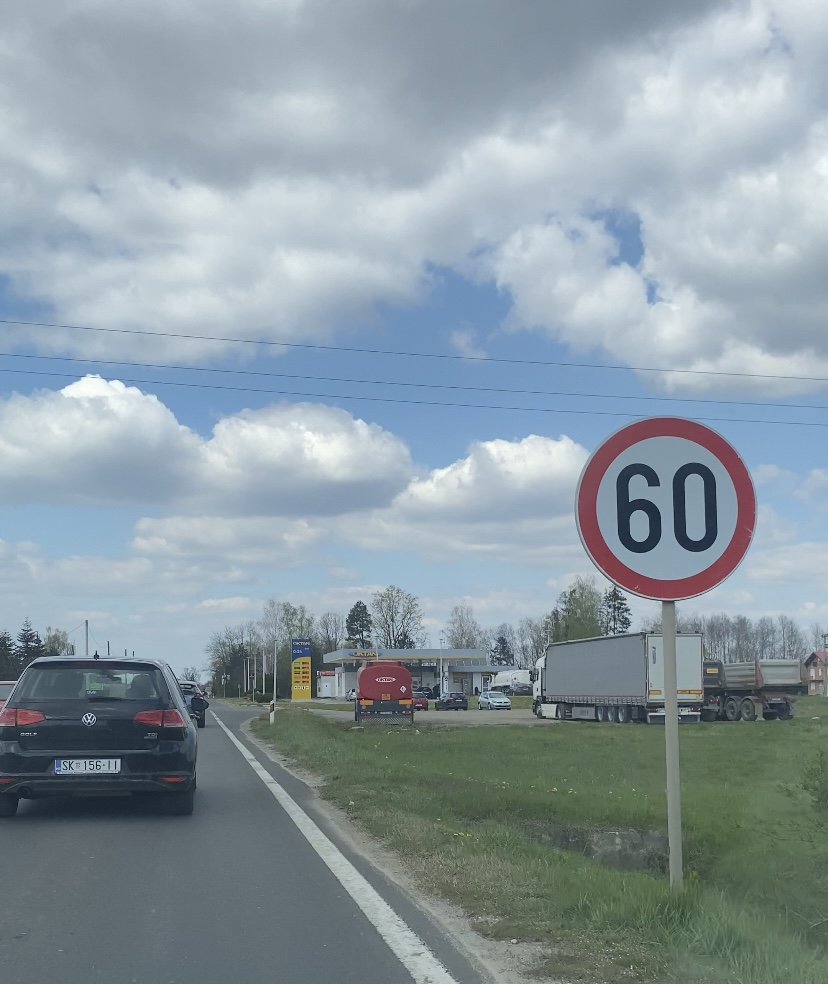Ograničenje brzine 60: (574, 416, 757, 601)
